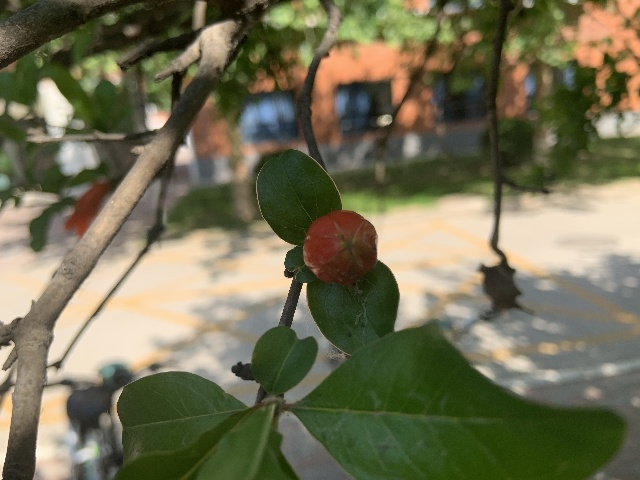bud: (303, 209, 377, 285)
flower: (64, 181, 108, 238)
